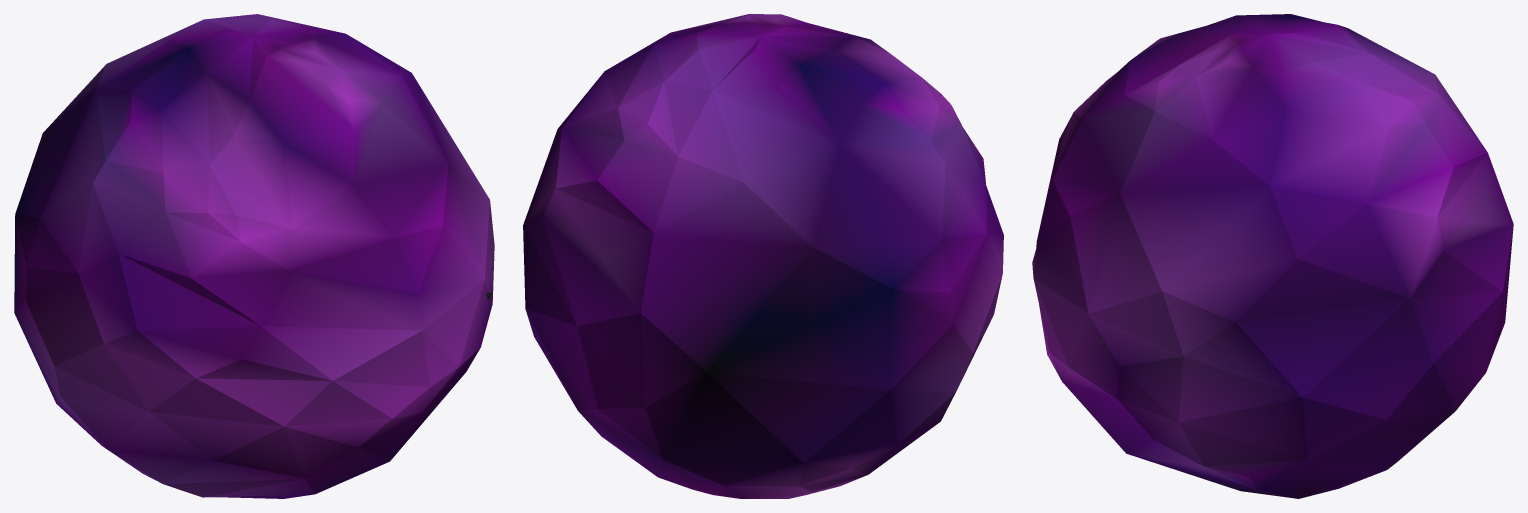
3 views of the same model, side by side, from view 1: azimuth 30°, elevation 25°; view 2: azimuth 150°, elevation 25°; view 3: azimuth 270°, elevation 25° (orthographic).
Parts seen in each view (by area): view 1: part3; view 2: part3; view 3: part3.
Part boxes in pixels (x1=…): part3: x1=14, y1=14, x2=494, y2=498; part3: x1=523, y1=14, x2=1003, y2=498; part3: x1=1032, y1=14, x2=1513, y2=498.
Bounding box in the file's own units: 12.82 × 13.03 × 12.81.
28 materials, 26 textured.
